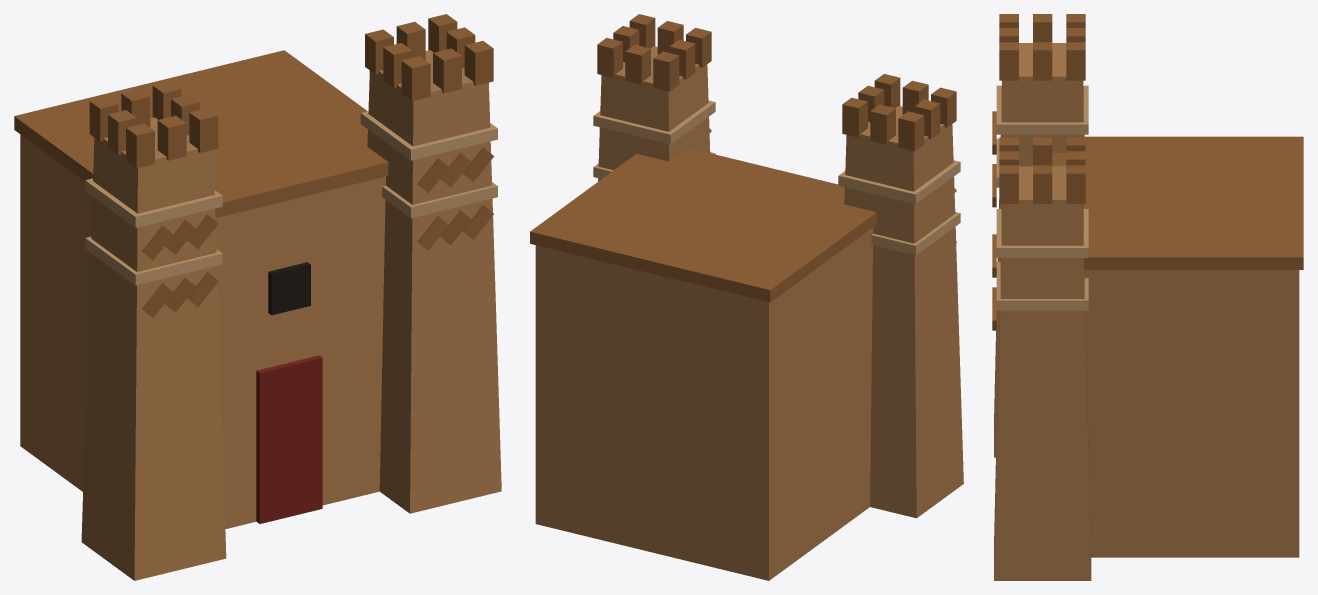
File: fennec_house_b_broken.glb
The picture shows the model from 3 angles, left to right: view 1: azimuth 30°, elevation 25°; view 2: azimuth 150°, elevation 25°; view 3: azimuth 270°, elevation 25°; orthographic projection. The views are drawn at different scales.
Visible parts, largest first — view 1: fennec_house_b_piece4, fennec_house_b_piece6, fennec_house_b_piece1, fennec_house_b_piece0, fennec_house_b_piece10, fennec_house_b_piece2, fennec_house_b_piece12, fennec_house_b_piece3, fennec_house_b_piece9, fennec_house_b_piece7, fennec_house_b_piece13, fennec_house_b_piece11 (+2 smaller); view 2: fennec_house_b_piece3, fennec_house_b_piece1, fennec_house_b_piece6, fennec_house_b_piece0, fennec_house_b_piece2, fennec_house_b_piece13, fennec_house_b_piece11, fennec_house_b_piece5, fennec_house_b_piece4, fennec_house_b_piece7; view 3: fennec_house_b_piece1, fennec_house_b_piece4, fennec_house_b_piece8, fennec_house_b_piece3, fennec_house_b_piece0, fennec_house_b_piece7, fennec_house_b_piece11, fennec_house_b_piece13, fennec_house_b_piece2, fennec_house_b_piece6.
Boxes of the visible parts, box(x1,y1,x2,y2) form: fennec_house_b_piece4: box(324, 45, 501, 513); fennec_house_b_piece6: box(53, 255, 246, 580); fennec_house_b_piece1: box(119, 14, 488, 183); fennec_house_b_piece0: box(65, 101, 240, 445); fennec_house_b_piece10: box(184, 177, 327, 410); fennec_house_b_piece2: box(20, 83, 163, 438); fennec_house_b_piece12: box(277, 164, 356, 432); fennec_house_b_piece3: box(14, 90, 311, 289); fennec_house_b_piece9: box(252, 333, 350, 519); fennec_house_b_piece7: box(180, 390, 278, 569); fennec_house_b_piece13: box(48, 101, 273, 434); fennec_house_b_piece11: box(106, 81, 314, 216); fennec_house_b_piece3: box(535, 165, 817, 561); fennec_house_b_piece1: box(530, 17, 753, 432); fennec_house_b_piece6: box(798, 229, 963, 559); fennec_house_b_piece0: box(809, 74, 960, 518); fennec_house_b_piece2: box(704, 106, 918, 574); fennec_house_b_piece13: box(793, 115, 908, 512); fennec_house_b_piece11: box(754, 77, 907, 229); fennec_house_b_piece5: box(692, 467, 810, 580); fennec_house_b_piece4: box(593, 14, 716, 181); fennec_house_b_piece7: box(535, 485, 619, 544); fennec_house_b_piece1: box(999, 137, 1303, 463); fennec_house_b_piece4: box(992, 162, 1157, 580); fennec_house_b_piece8: box(1090, 350, 1237, 570); fennec_house_b_piece3: box(1085, 136, 1303, 516); fennec_house_b_piece0: box(992, 14, 1098, 166); fennec_house_b_piece7: box(994, 391, 1299, 557); fennec_house_b_piece11: box(1008, 19, 1145, 189); fennec_house_b_piece13: box(1036, 19, 1138, 166); fennec_house_b_piece2: box(1077, 14, 1205, 163); fennec_house_b_piece6: box(992, 151, 999, 433).
Bounding box in the file's own units: 2.8 × 3.22 × 2.24.
